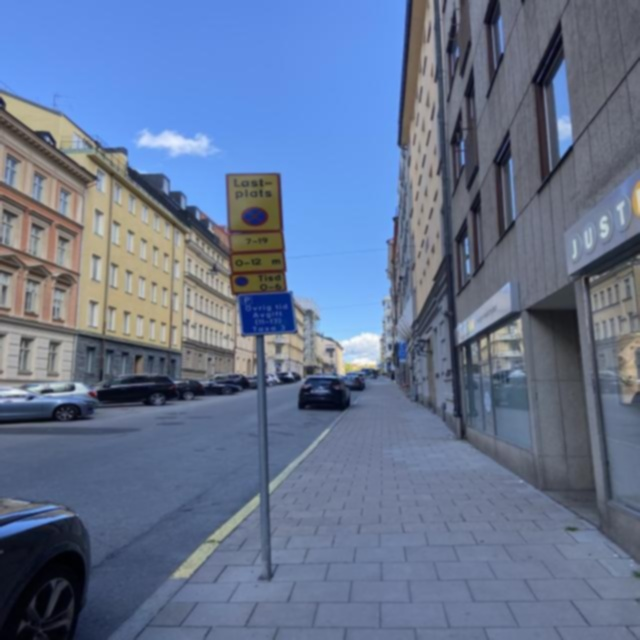lastplats: (225, 171, 284, 233)
